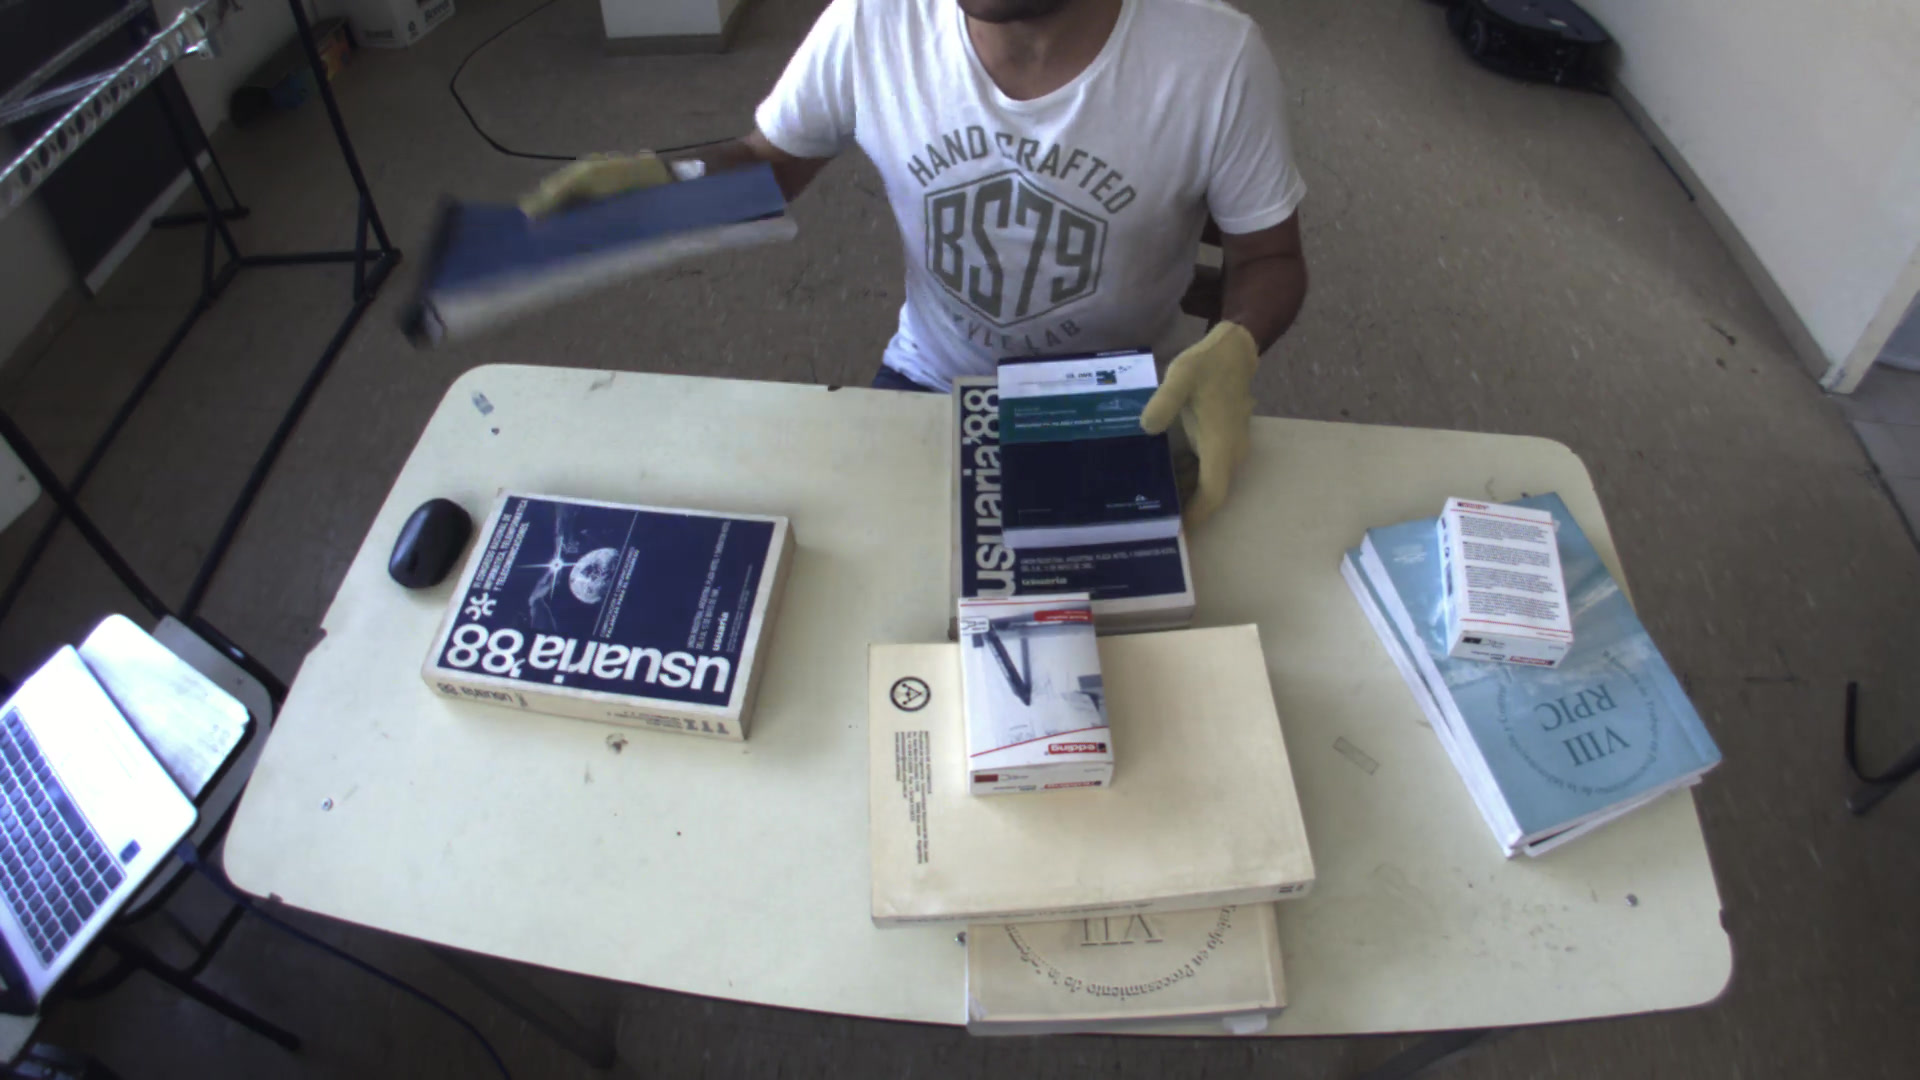hand: (1137, 311, 1273, 514)
